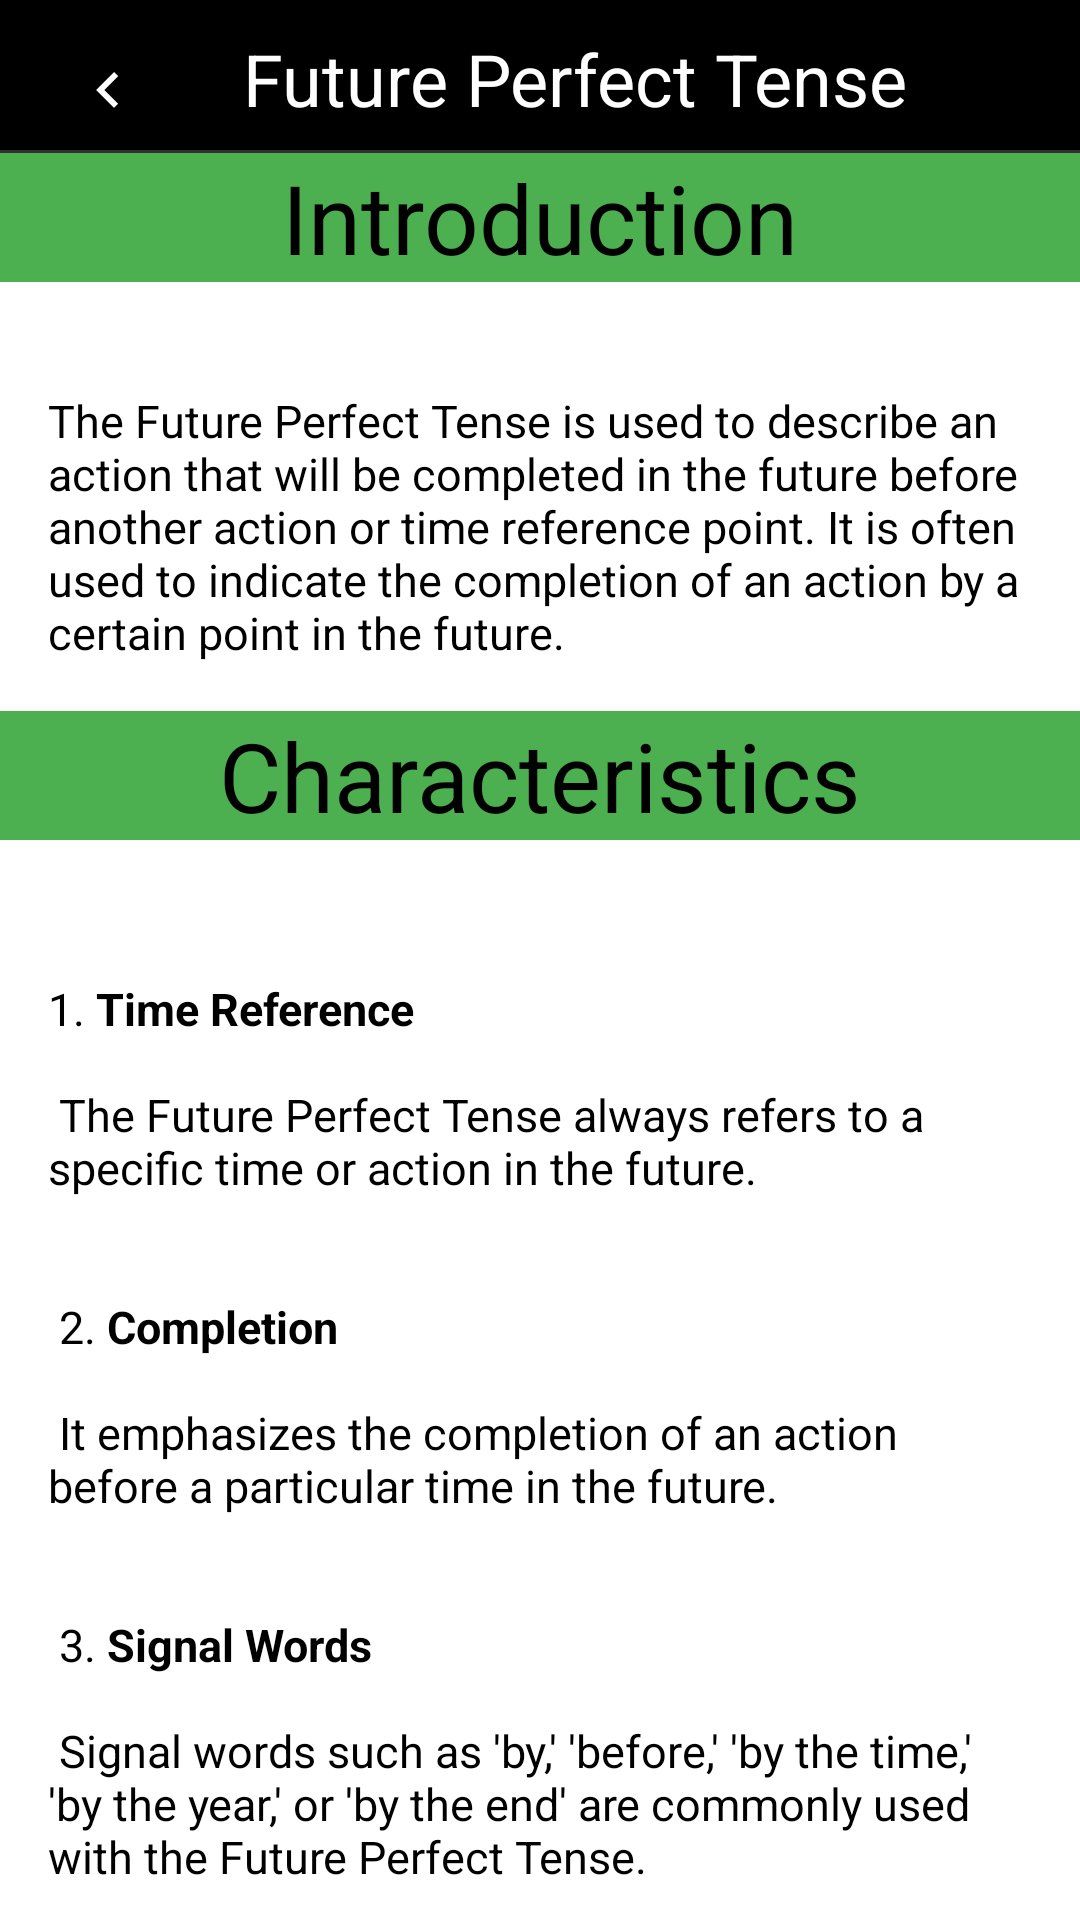

Where to tap for icons on this 1080*1920 app screen, as point (x, y):
backbt: point (107, 90)
